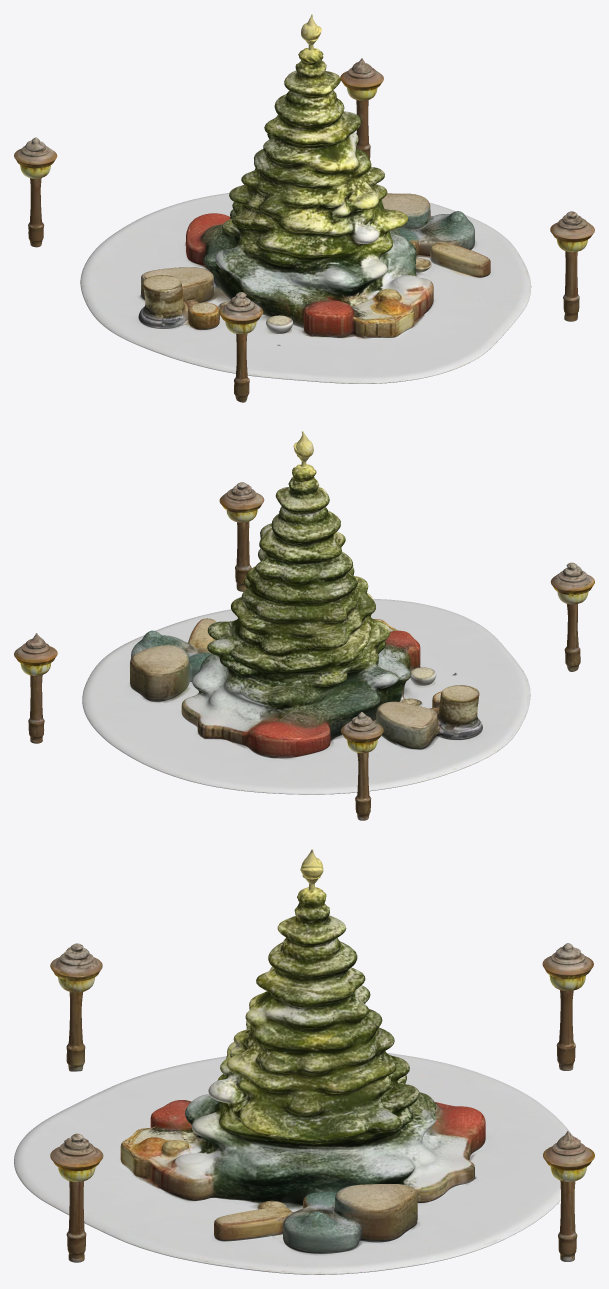
The model's file is christmas-tree.glb.
The picture shows the model from 3 angles, top to bottom: view 1: azimuth 30°, elevation 25°; view 2: azimuth 150°, elevation 25°; view 3: azimuth 270°, elevation 25°; orthographic projection. The views are drawn at different scales.
Visible parts, largest first — view 1: Mesh_0; view 2: Mesh_0; view 3: Mesh_0.
Boxes of the visible parts, box(x1,y1,x2,y2) form: Mesh_0: box(14, 14, 594, 402); Mesh_0: box(14, 431, 594, 820); Mesh_0: box(14, 849, 594, 1274).
Size of the model in its own units: 0.8101 by 0.5349 by 0.8808.
Materials: 1 (1 with a texture image).
